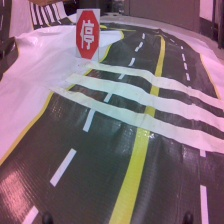stop: (75, 6, 101, 63)
